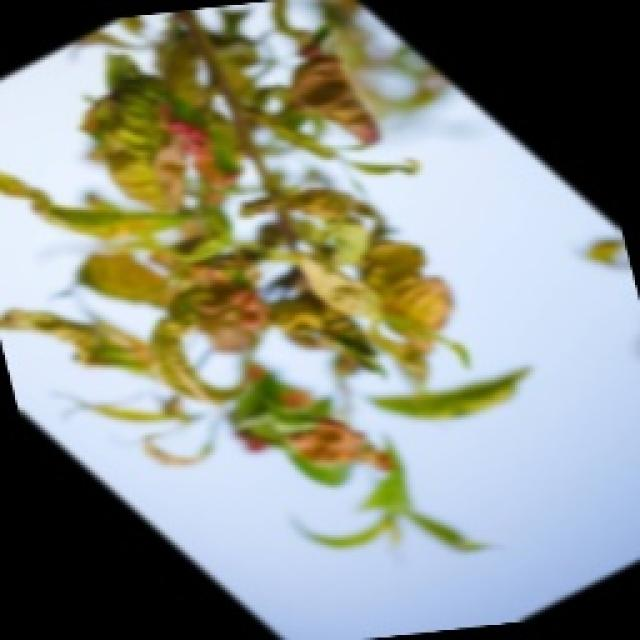Chlorosis: (0, 0, 530, 555)
